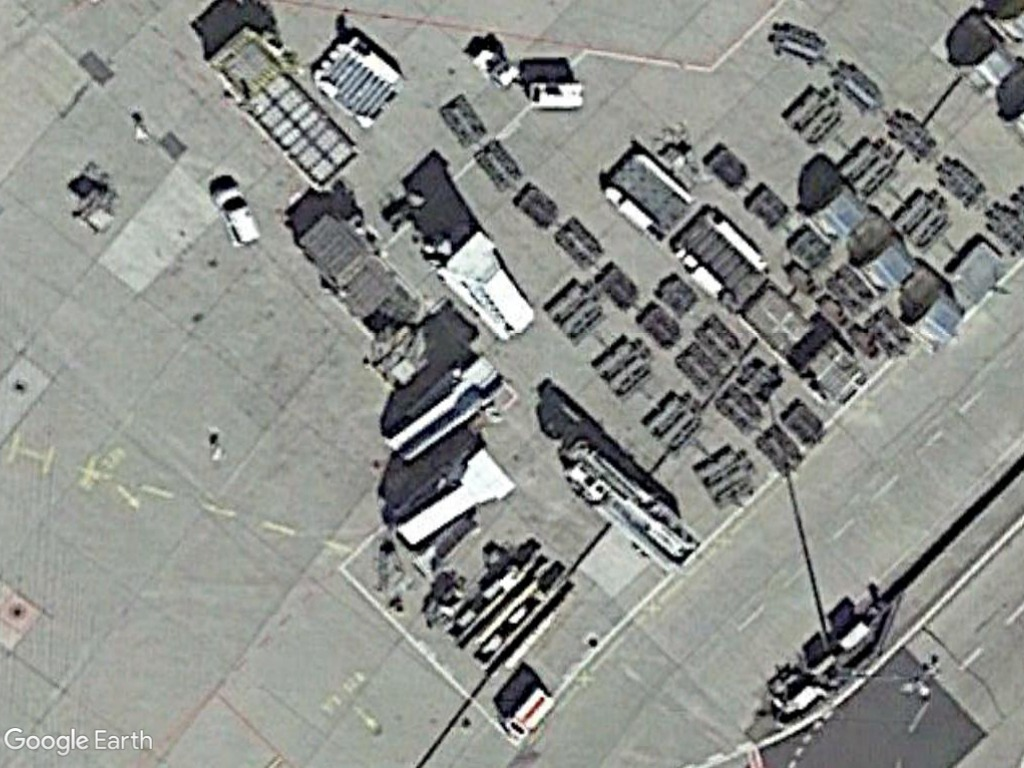stairtruck: (382, 369, 512, 463), (396, 446, 519, 543)
van: (211, 182, 261, 250)
